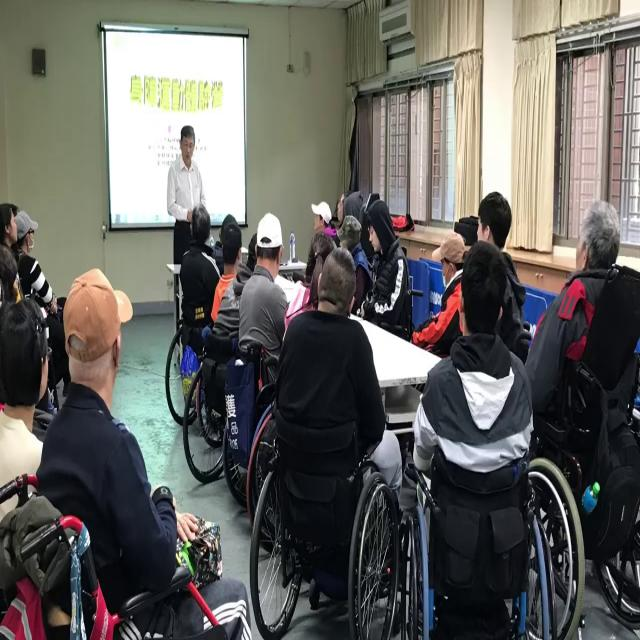wheelchairs: (243, 407, 414, 640), (537, 349, 640, 640), (396, 467, 564, 640), (163, 292, 297, 468), (181, 307, 281, 522)
